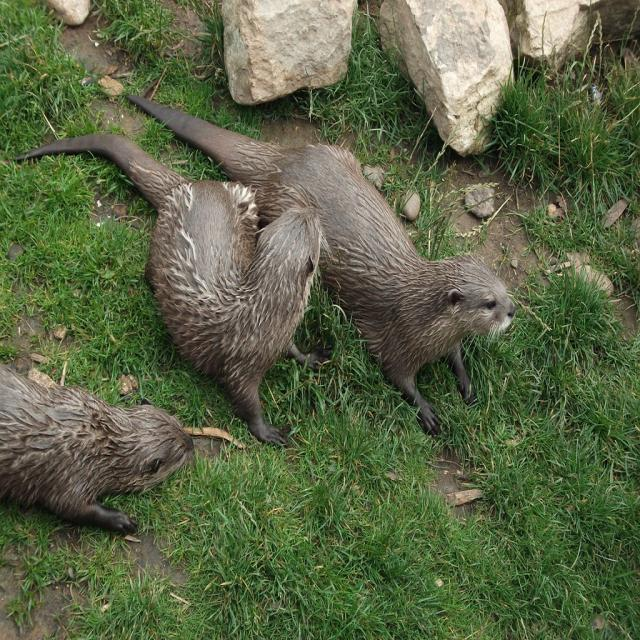otter: (136, 93, 513, 414), (24, 137, 323, 441), (1, 356, 192, 540)
